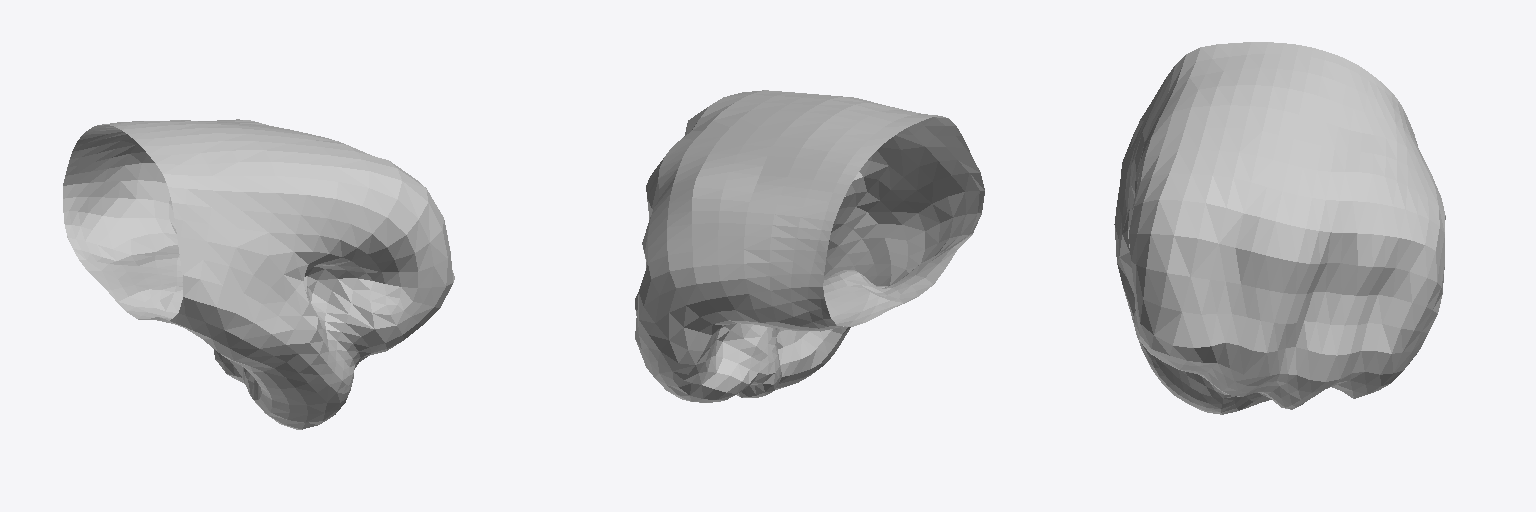
Rendered from main_gauche.obj.
3 renders of one model, left to right at view 1: azimuth 30°, elevation 25°; view 2: azimuth 150°, elevation 25°; view 3: azimuth 270°, elevation 25°, orthographic.
Visible parts, largest first — view 1: 15548_French_Horseman_v1.002; view 2: 15548_French_Horseman_v1.002; view 3: 15548_French_Horseman_v1.002.
Part boxes in pixels (left/top/right/bottom): 15548_French_Horseman_v1.002: left=63, top=119, right=454, bottom=429; 15548_French_Horseman_v1.002: left=635, top=90, right=984, bottom=402; 15548_French_Horseman_v1.002: left=1114, top=42, right=1445, bottom=414.
Bounding box in the file's own units: 0.4929 × 0.49 × 0.4847.